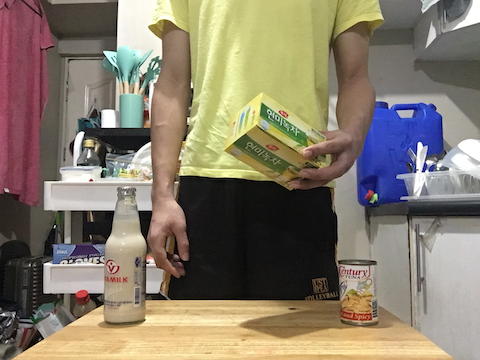bottle: (100, 183, 153, 328)
box: (221, 89, 334, 194)
can: (335, 254, 384, 328)
grab: (286, 125, 353, 197)
